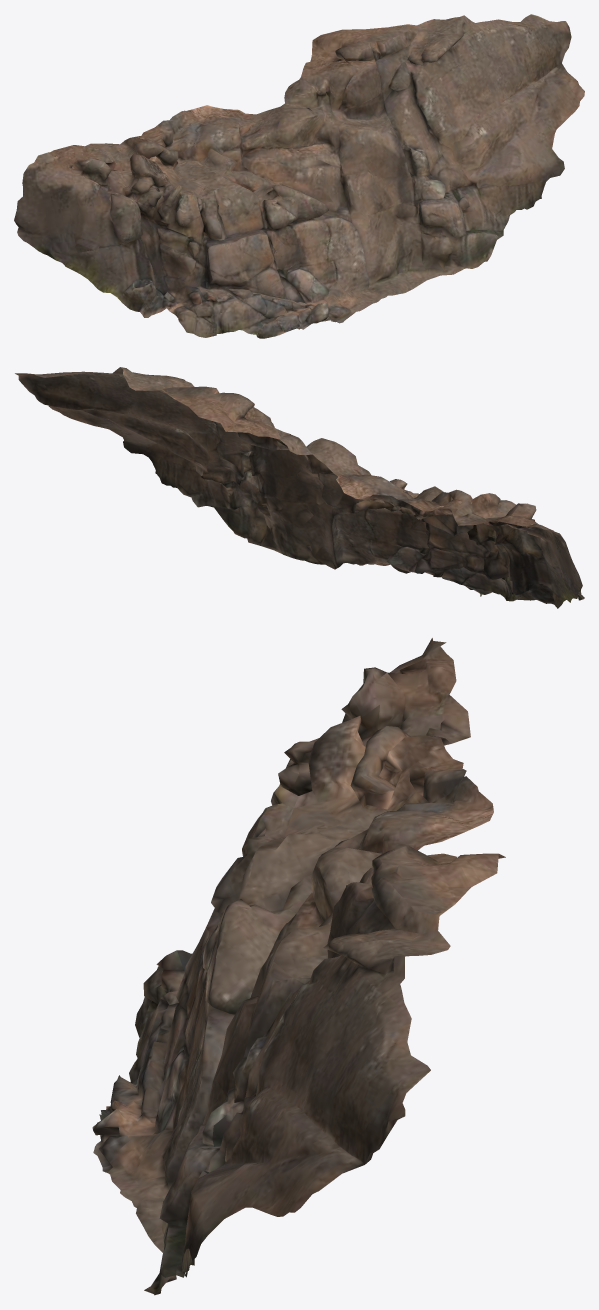
The model's file is cliff_02.glb.
3 renders of one model, top to bottom at view 1: azimuth 30°, elevation 25°; view 2: azimuth 150°, elevation 25°; view 3: azimuth 270°, elevation 25°, orthographic. The views are drawn at different scales.
Visible parts, largest first — view 1: cliff_02; view 2: cliff_02; view 3: cliff_02.
Part boxes in pixels (x1,y1,x2,y2): cliff_02: (14,14,584,338); cliff_02: (15,367,584,608); cliff_02: (92,638,505,1295).
Size of the model in its own units: 11.97 by 4.27 by 3.91.
1 material, 1 textured.
